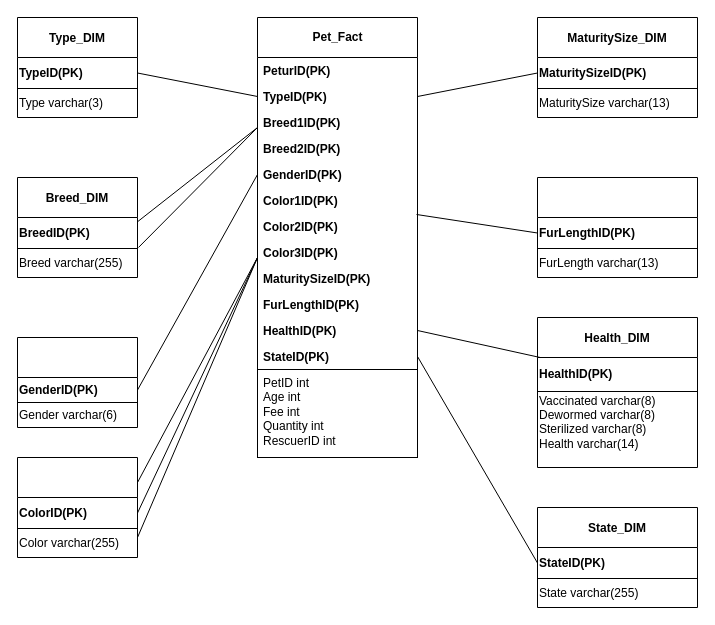
Image size: 715x625. Some labels were removed from this diagram. The shapes that lost their labels are listed below. From the top down, each one's box as (x1, y1, x2, y2) in pixels, then its label:
(536, 176, 698, 278): FurLength_DIM
(16, 336, 138, 428): Gender_DIM
(16, 456, 138, 558): Color_DIM
